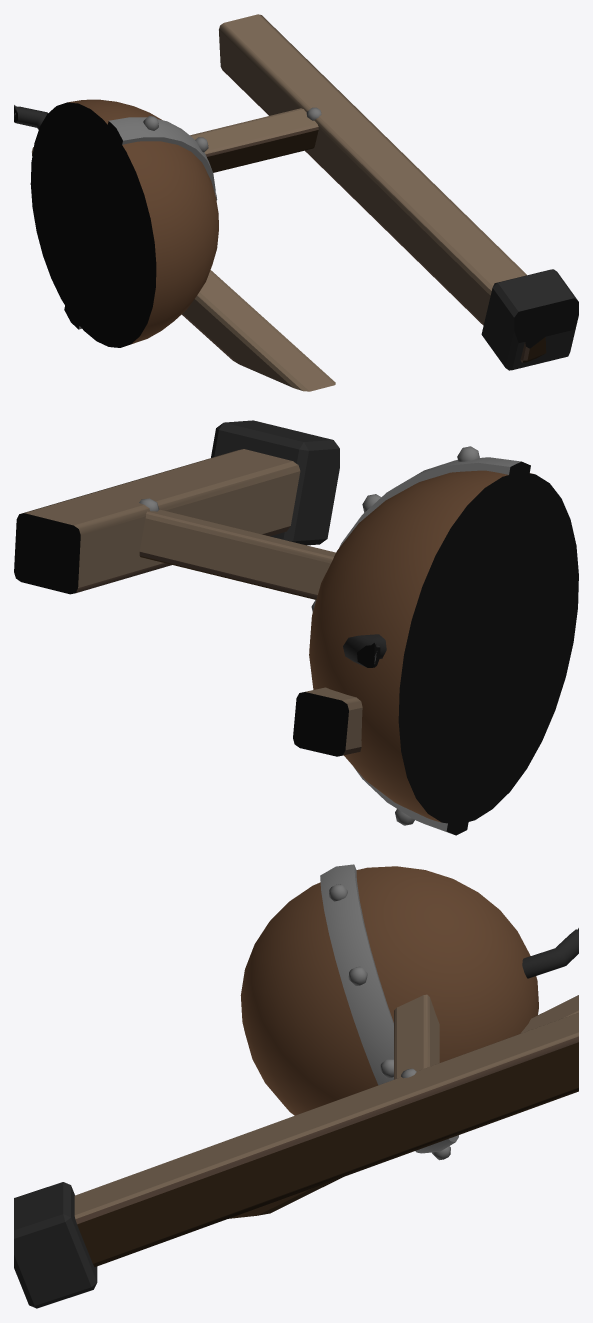
Rendered from gbc_derrick_lr.glb.
The picture shows the model from 3 angles, top to bottom: view 1: azimuth 30°, elevation 25°; view 2: azimuth 150°, elevation 25°; view 3: azimuth 270°, elevation 25°; orthographic projection. The views are drawn at different scales.
Visible parts, largest first — view 1: ball.001, leg1.001, leg3.001, foot1.001, crossbar.002, ball_band.001, shackle.001; view 2: ball.001, leg1.001, crossbar.002, ball_band.001, foot1.001, leg3.001, shackle.001; view 3: ball.001, leg1.001, foot1.001, ball_band.001, crossbar.002, leg3.001, shackle.001.
Part boxes in pixels (left/top/right/bottom): ball.001: left=30, top=99, right=218, bottom=347; leg1.001: left=219, top=14, right=565, bottom=362; leg3.001: left=32, top=147, right=335, bottom=391; foot1.001: left=481, top=269, right=578, bottom=370; crossbar.002: left=79, top=108, right=318, bottom=202; ball_band.001: left=64, top=117, right=215, bottom=329; shackle.001: left=14, top=106, right=47, bottom=129; ball.001: left=309, top=470, right=578, bottom=824; leg1.001: left=14, top=449, right=300, bottom=594; crossbar.002: left=139, top=509, right=486, bottom=635; ball_band.001: left=339, top=457, right=530, bottom=835; foot1.001: left=211, top=420, right=339, bottom=545; leg3.001: left=293, top=687, right=362, bottom=756; shackle.001: left=343, top=634, right=386, bottom=667; ball.001: left=240, top=866, right=538, bottom=1115; leg1.001: left=74, top=1012, right=578, bottom=1266; foot1.001: left=14, top=1182, right=97, bottom=1308; ball_band.001: left=320, top=864, right=458, bottom=1153; crossbar.002: left=394, top=994, right=439, bottom=1079; leg3.001: left=228, top=995, right=578, bottom=1218; shackle.001: left=522, top=929, right=578, bottom=978.
Size of the model in its own units: 22.2 by 15.25 by 28.
